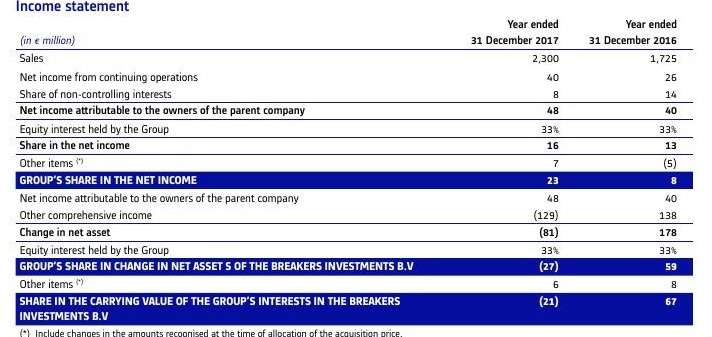table: (0, 0, 712, 337)
